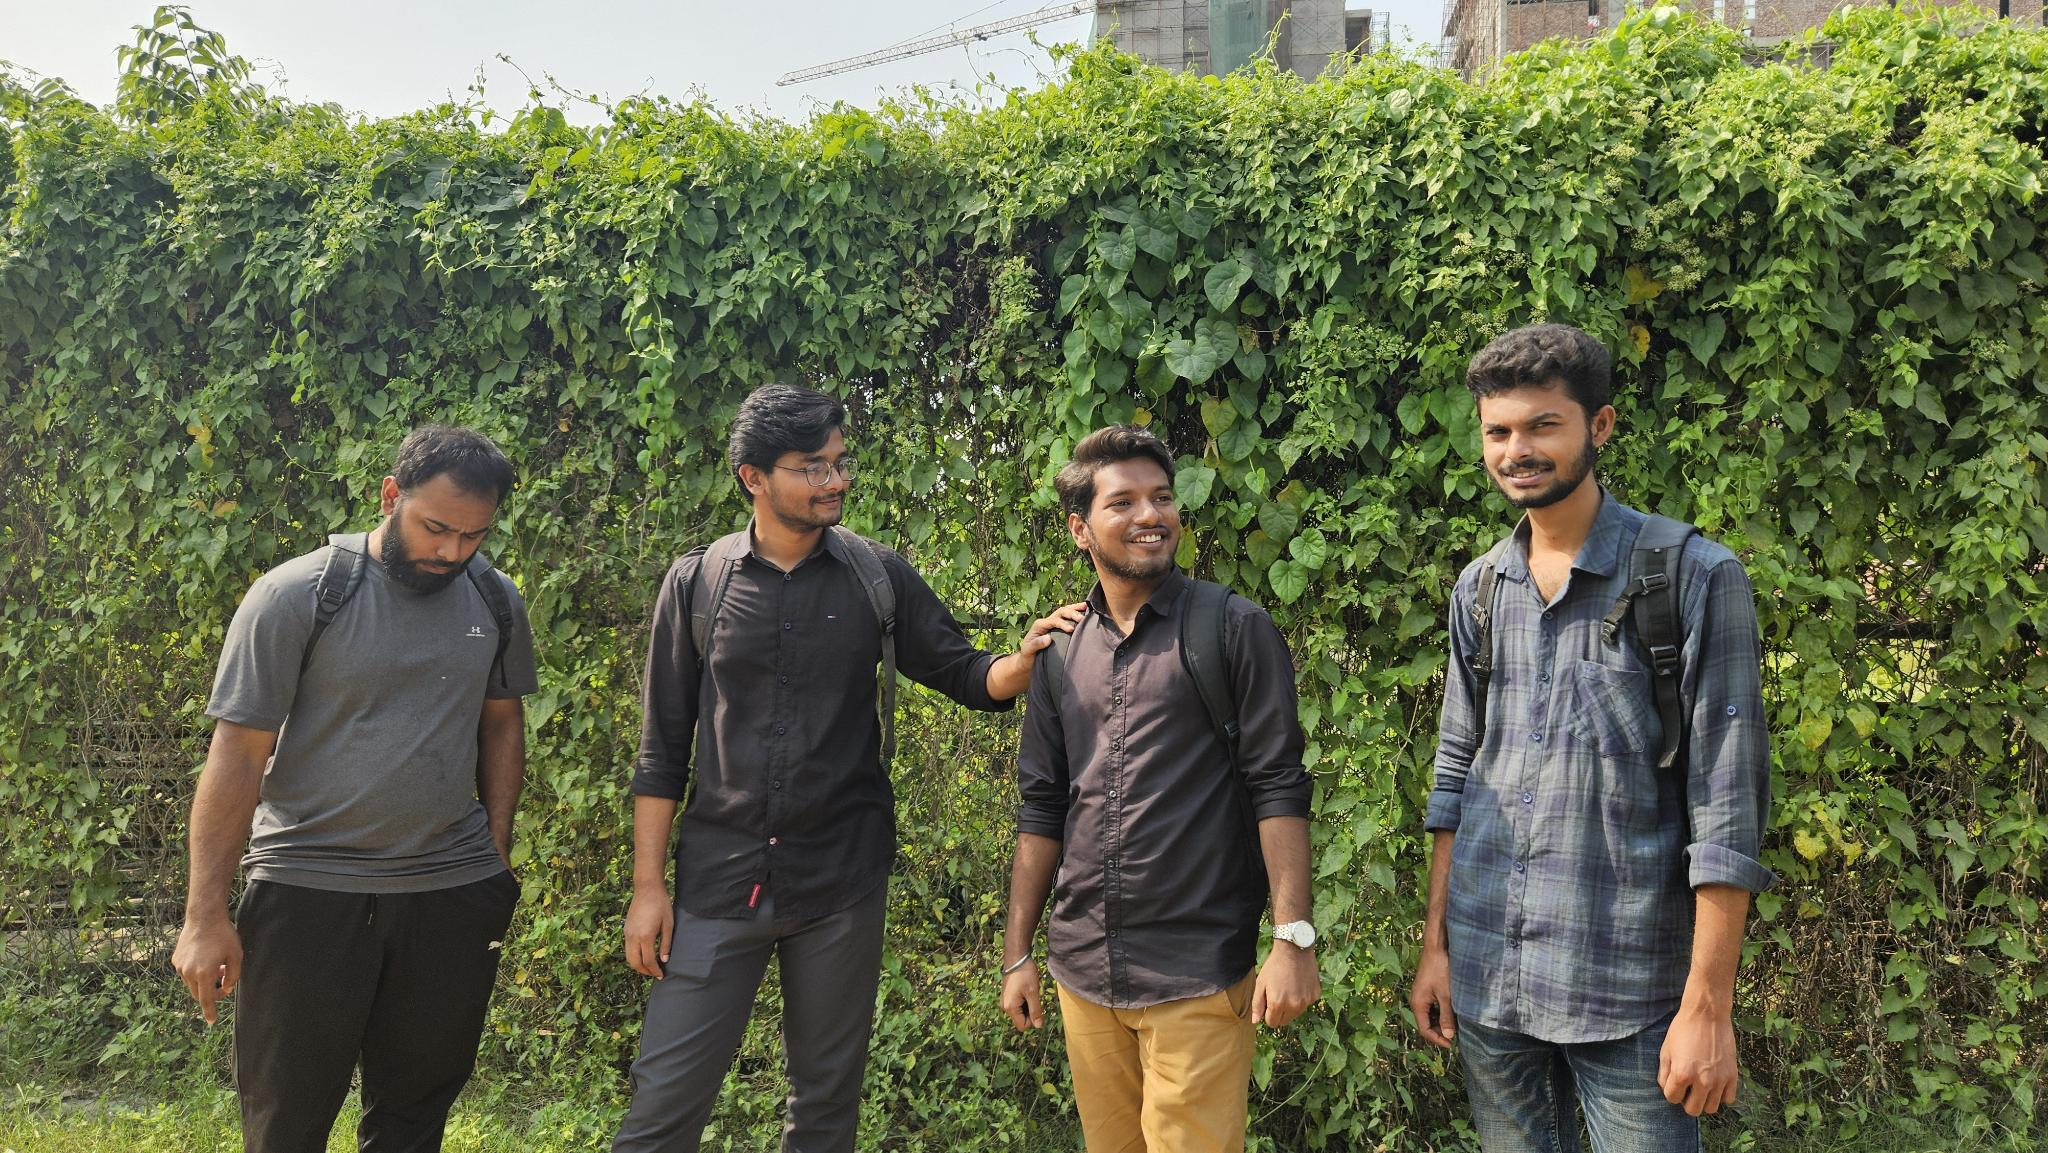nonSmoker: (610, 382, 1087, 1153), (1408, 322, 1781, 1153), (172, 423, 539, 1153), (1000, 426, 1322, 1153)
